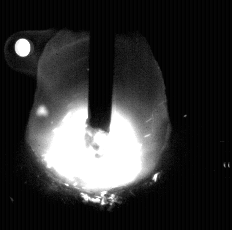arame: (88, 0, 113, 132)
poca: (25, 0, 170, 230)
